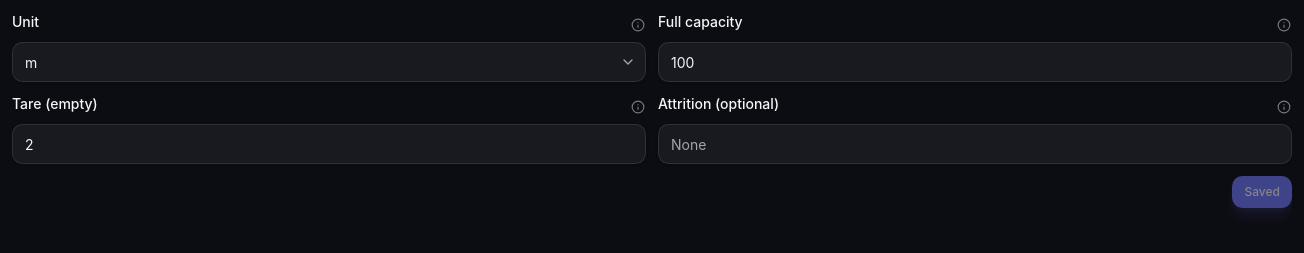
Test: GaugeConfigEditor (issue #69) › refuses to save a negative tare
Replace the text in the number field with test id "gauge-config-tare" with "-1" at (329,144), box [12,124,646,164]
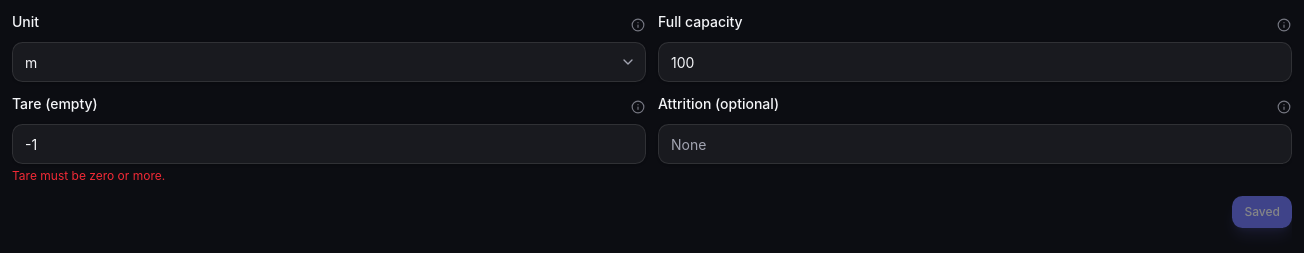
Expected: the button with test id "gauge-config-save" is disabled, [1232,196,1292,228]
Expected: the text "Tare must be zero or more." is shown, [12,168,165,183]
